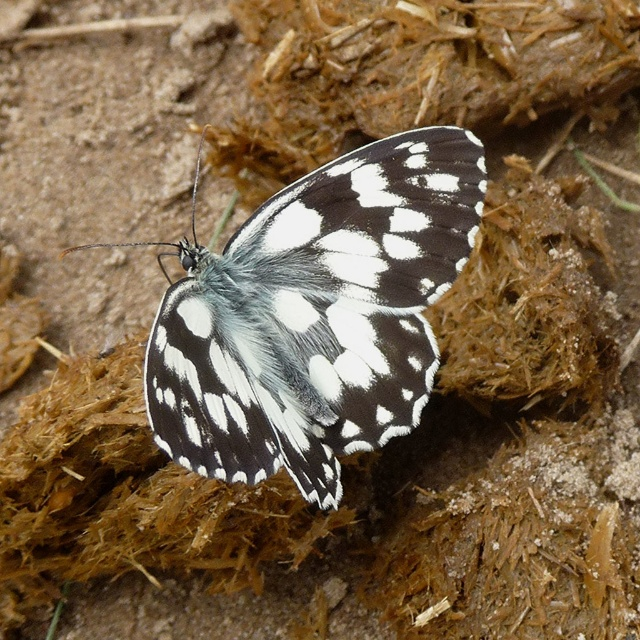Butterfly: (77, 103, 508, 507)
